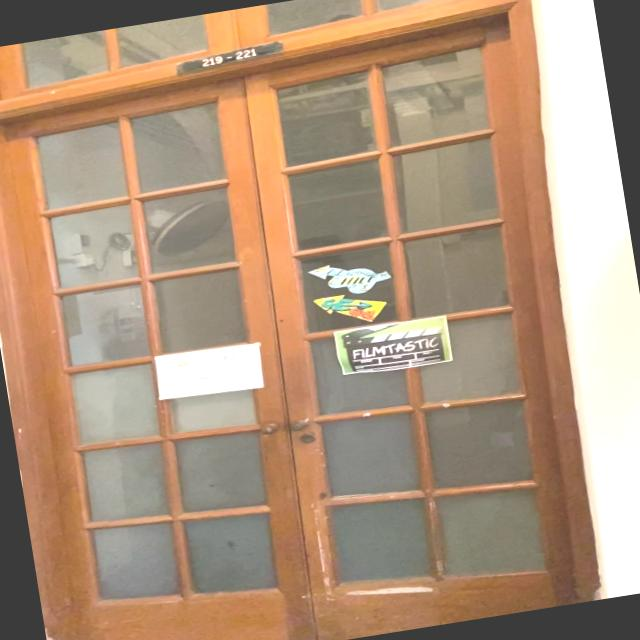room221: (171, 36, 292, 78)
